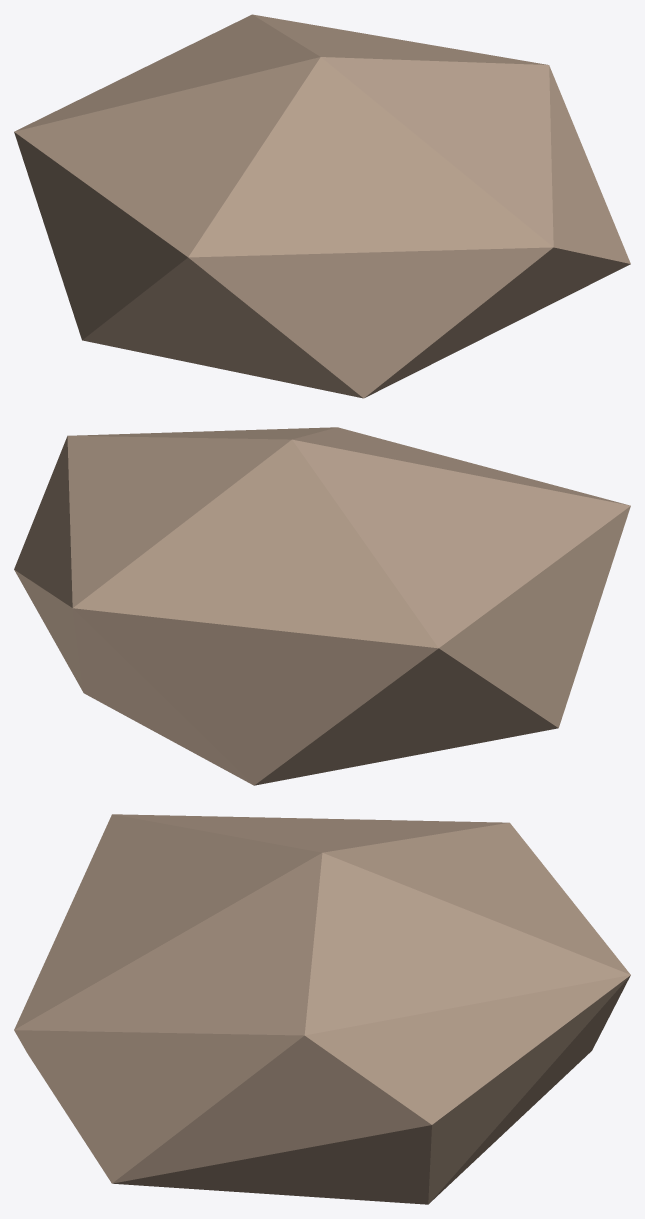
The model's file is Asteroid_Small.fbx.
3 views of the same model, one above another, from view 1: azimuth 30°, elevation 25°; view 2: azimuth 150°, elevation 25°; view 3: azimuth 270°, elevation 25° (orthographic). The views are drawn at different scales.
Visible parts, largest first — view 1: Asteroid_Small; view 2: Asteroid_Small; view 3: Asteroid_Small.
Part boxes in pixels (x1=…): Asteroid_Small: x1=14, y1=14, x2=630, y2=398; Asteroid_Small: x1=14, y1=427, x2=630, y2=785; Asteroid_Small: x1=14, y1=814, x2=630, y2=1204.
Bounding box in the file's own units: 9.2 × 5.45 × 9.45.
